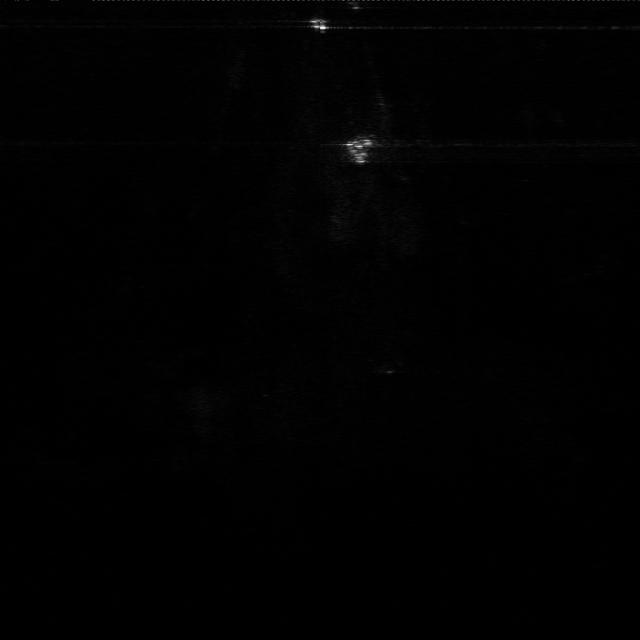rov: (343, 137, 377, 164)
